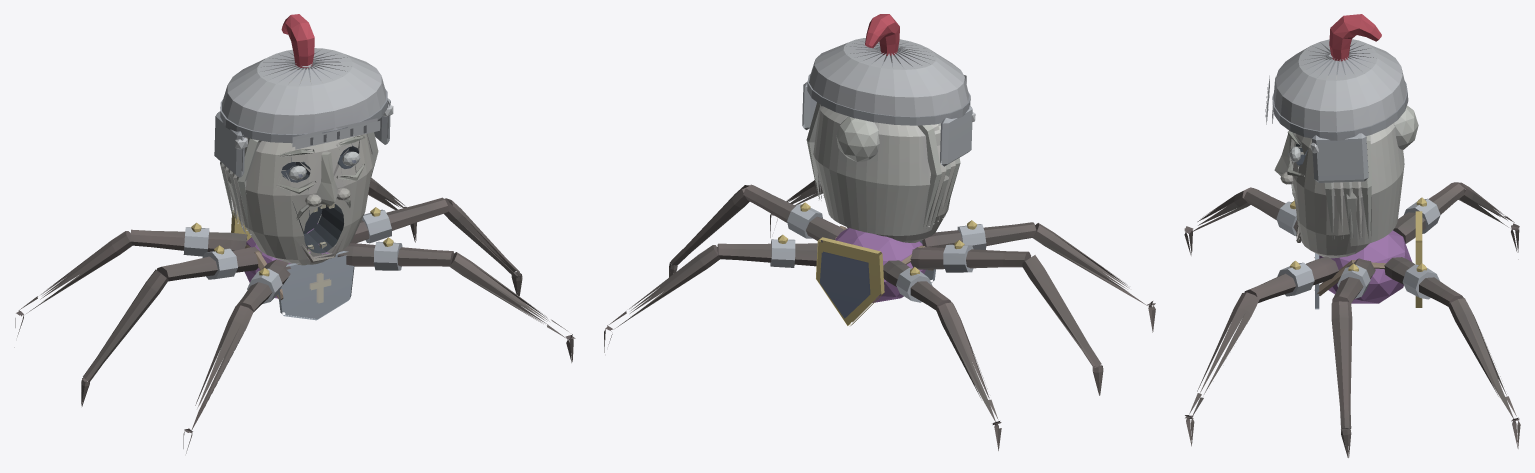
File: SpiderMomKnight.glb
3 views of the same model, side by side, from view 1: azimuth 30°, elevation 25°; view 2: azimuth 150°, elevation 25°; view 3: azimuth 270°, elevation 25° (orthographic).
Visible parts, largest first — view 1: Head, Body, ArmL, LegR, ArmR, LegL; view 2: Head, Body, LegL, ArmR, LegR; view 3: Head, Body, ArmL, LegL, LegR, ArmR.
Part boxes in pixels (left/top/right/bottom): Head: left=214, top=14, right=393, bottom=265; Body: left=81, top=197, right=522, bottom=406; ArmL: left=337, top=237, right=575, bottom=362; LegR: left=14, top=222, right=247, bottom=347; ArmR: left=183, top=259, right=290, bottom=453; LegL: left=368, top=178, right=416, bottom=242; Head: left=802, top=14, right=975, bottom=242; Body: left=669, top=184, right=1103, bottom=395; LegL: left=604, top=234, right=817, bottom=352; ArmR: left=922, top=220, right=1155, bottom=332; LegR: left=883, top=260, right=1001, bottom=450; Head: left=1265, top=14, right=1418, bottom=258; Body: left=1314, top=211, right=1422, bottom=457; ArmL: left=1185, top=256, right=1338, bottom=446; LegL: left=1384, top=257, right=1520, bottom=448; LegR: left=1393, top=182, right=1519, bottom=259; ArmR: left=1184, top=187, right=1297, bottom=255.
Size of the model in its own units: 6.21 by 4.61 by 4.1.
